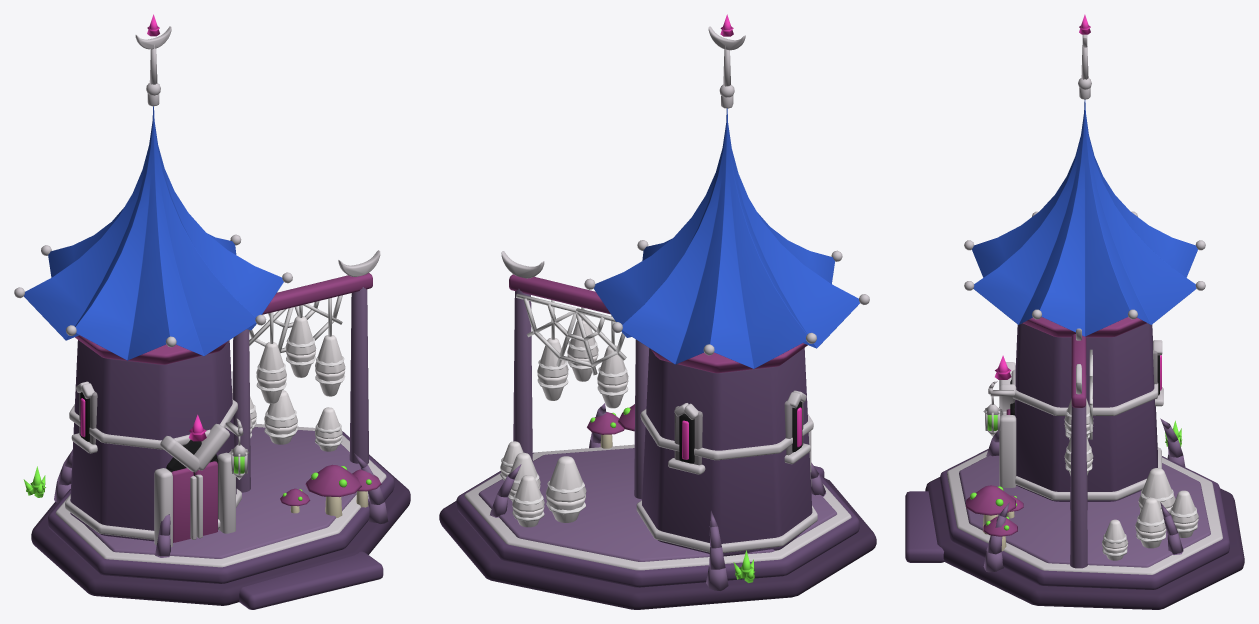
File: Granary.glb
3 renders of one model, left to right at view 1: azimuth 30°, elevation 25°; view 2: azimuth 150°, elevation 25°; view 3: azimuth 270°, elevation 25°, orthographic. The views are drawn at different scales.
Visible parts, largest first — view 1: Granary; view 2: Granary; view 3: Granary.
Boxes of the visible parts, box(x1,y1,x2,y2) form: Granary: box(14, 14, 410, 609); Granary: box(439, 14, 876, 609); Granary: box(905, 14, 1244, 609).
Size of the model in its own units: 3.14 by 4.48 by 2.81.
